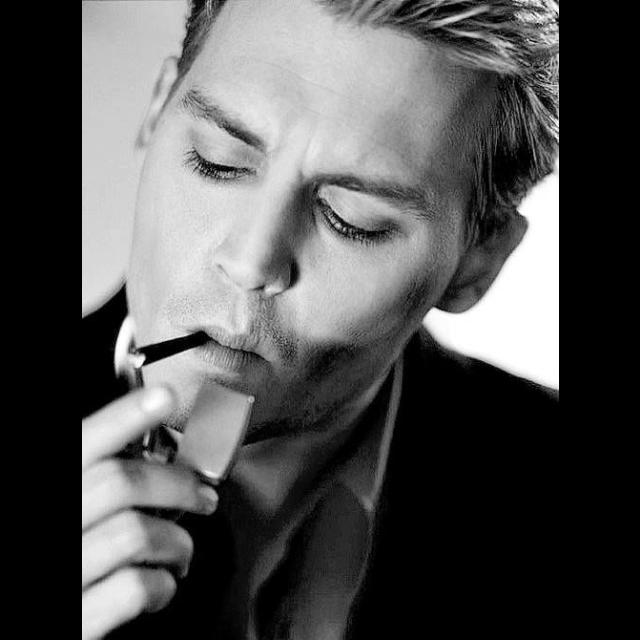rokok: (116, 321, 204, 379)
